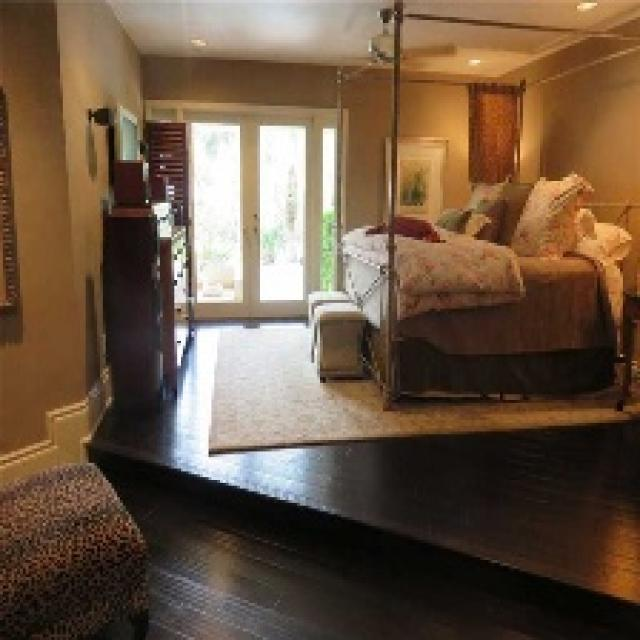Bed: (337, 200, 632, 409)
